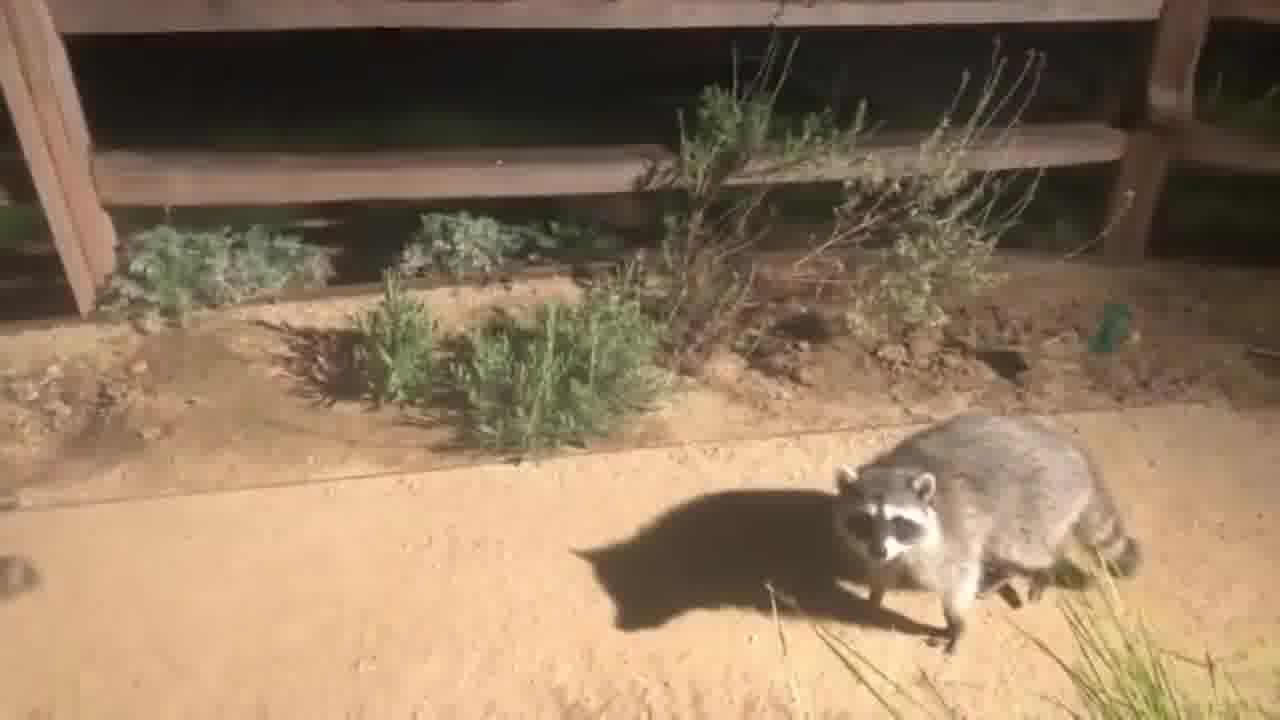raccoon: (807, 389, 1162, 666), (0, 542, 58, 613)
